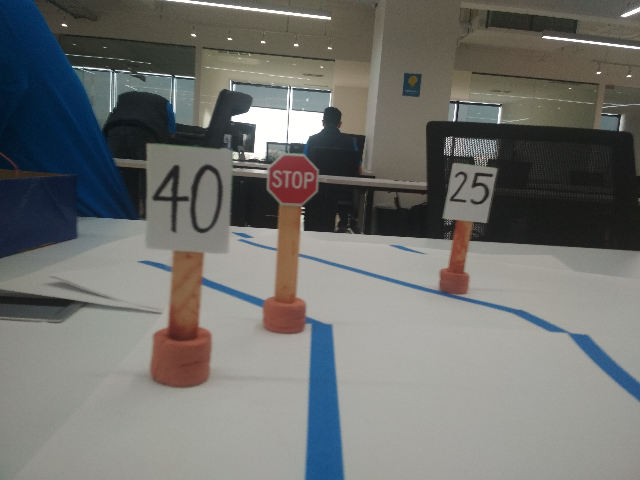Speed Limit 25: (441, 159, 498, 225)
Speed Limit 40: (140, 138, 234, 256)
Stop Sign: (266, 150, 319, 206)
